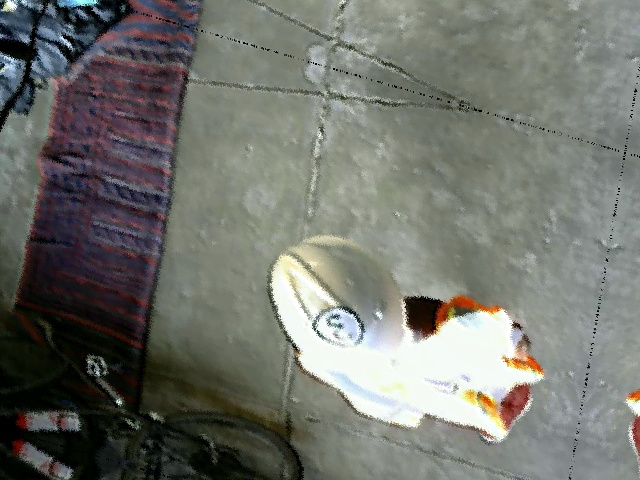three: (308, 299, 363, 351)
